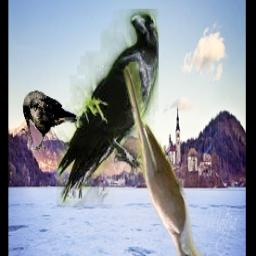Crow: (57, 9, 159, 207), (23, 89, 78, 153)
Cuckoo: (122, 63, 205, 256)
